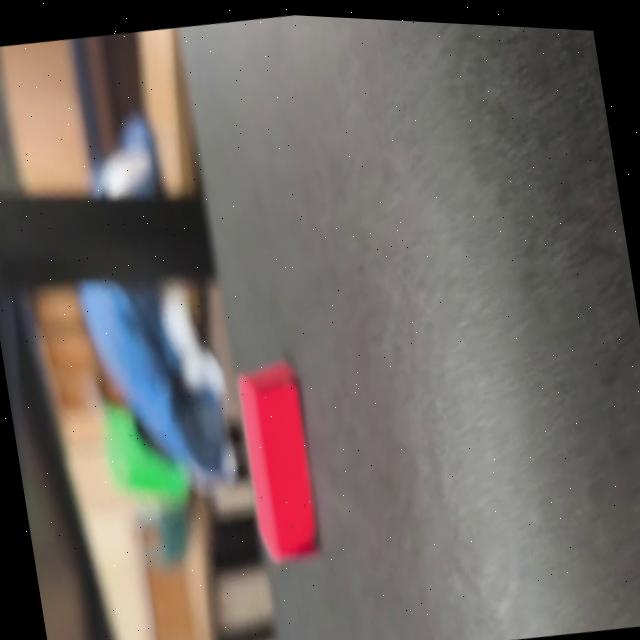red block: (230, 356, 326, 569)
